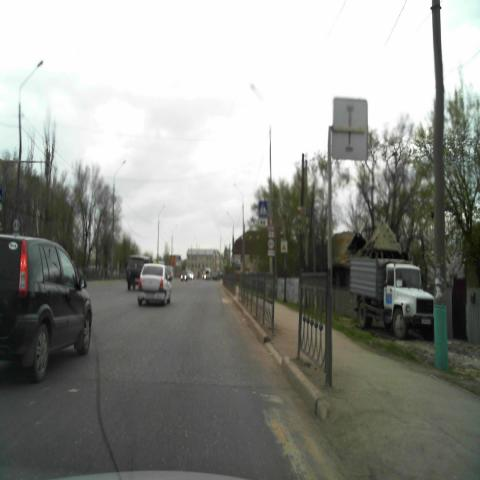3_24: (12, 218, 20, 232)
